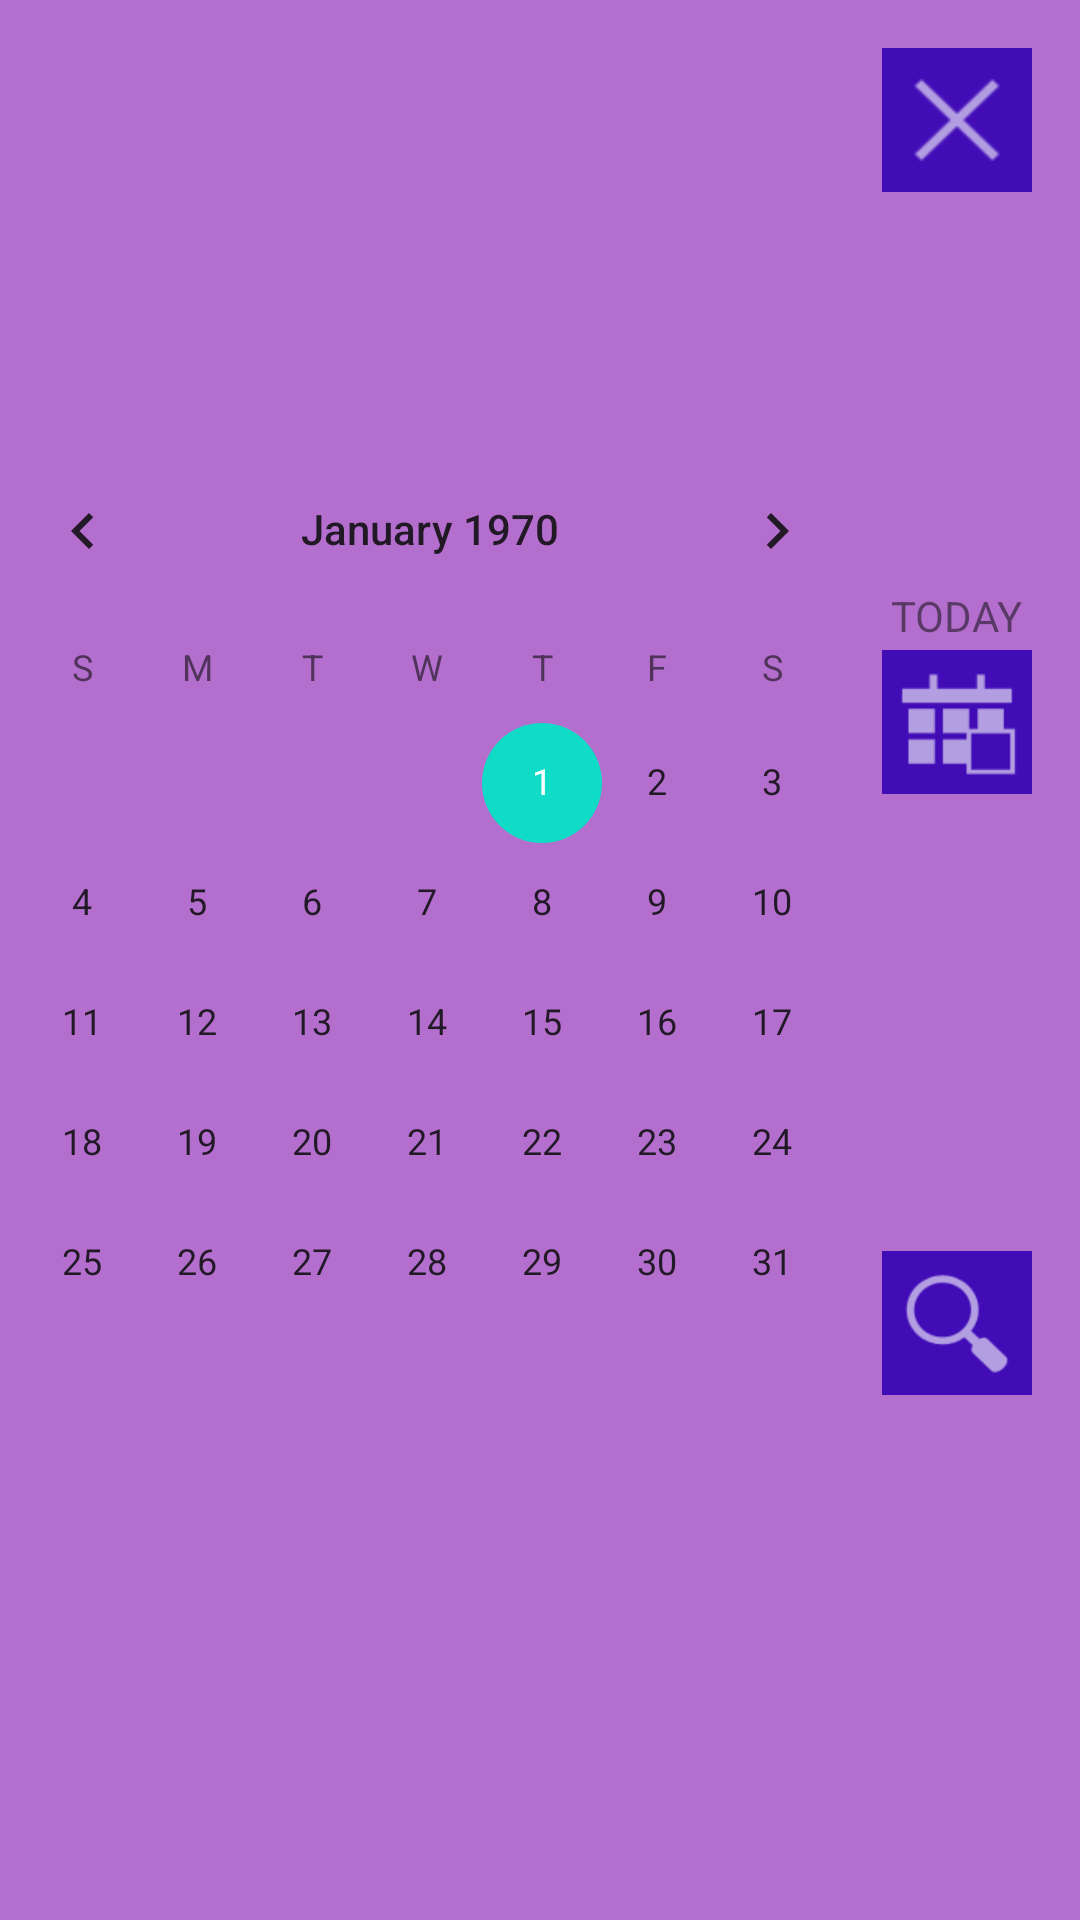

Where to tap for icons on this 1080 x 1920 app screen, as (x,y):
close clear cancel: (957,120)
search: (957,1323)
